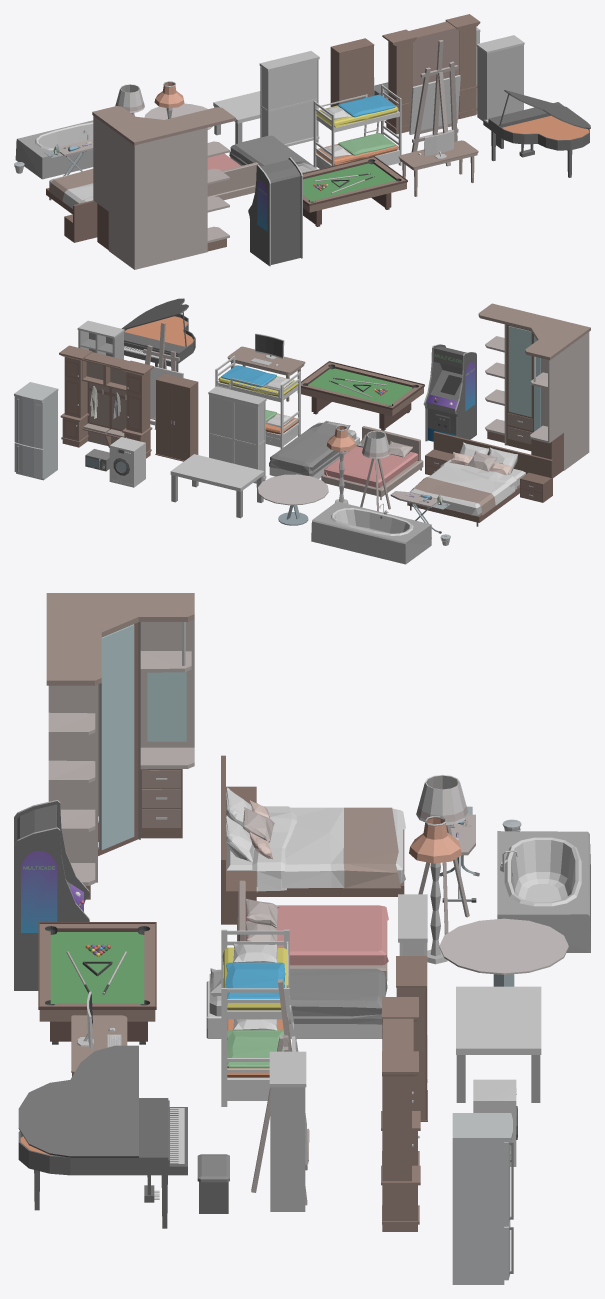
The model's file is props2.glb.
3 views of the same model, one above another, from view 1: azimuth 30°, elevation 25°; view 2: azimuth 150°, elevation 25°; view 3: azimuth 270°, elevation 25° (orthographic). The views are drawn at different scales.
Parts seen in each view (by area): view 1: furniture_closet_storage, furniture_closet_organizer, furniture_game_arcade, furniture_bedroom_armoire, furniture_bedroom_bunk, instrument_piano, furniture_game_pool, furniture_storage_bookshelf, prop_easel, bathroom_tub, furniture_kitchen_pantry, furniture_bedroom_king (+8 smaller); view 2: furniture_closet_storage, furniture_bedroom_king, furniture_closet_organizer, bathroom_tub, furniture_game_pool, furniture_game_arcade, furniture_bedroom_armoire, appliance_fridge, furniture_bedroom_queen, furniture_kitchen_pantry, furniture_bedroom_bunk, instrument_piano (+11 smaller); view 3: furniture_closet_storage, instrument_piano, furniture_bedroom_king, furniture_game_pool, appliance_fridge, furniture_bedroom_bunk, bathroom_tub, furniture_game_arcade, furniture_closet_organizer, furniture_bedroom_queen, furniture_bedroom_twin, furniture_dining_table (+10 smaller).
Part boxes in pixels (<box>): furniture_closet_storage: <box>92,106,235,269</box>; furniture_closet_organizer: <box>382,14,480,134</box>; furniture_game_arcade: <box>248,157,302,266</box>; furniture_bedroom_armoire: <box>259,51,319,146</box>; furniture_bedroom_bunk: <box>313,84,401,168</box>; instrument_piano: <box>483,90,590,177</box>; furniture_game_pool: <box>302,156,407,226</box>; furniture_storage_bookshelf: <box>476,35,524,121</box>; prop_easel: <box>409,40,460,166</box>; bathroom_tub: <box>15,120,93,179</box>; furniture_kitchen_pantry: <box>330,38,374,106</box>; furniture_bedroom_king: <box>46,168,97,242</box>; furniture_closet_storage: <box>478,303,590,477</box>; furniture_bedroom_king: <box>407,431,552,526</box>; furniture_closet_organizer: <box>59,345,153,458</box>; bathroom_tub: <box>311,501,431,564</box>; furniture_game_pool: <box>297,361,424,430</box>; furniture_game_arcade: <box>423,344,476,441</box>; furniture_bedroom_armoire: <box>208,386,266,487</box>; appliance_fridge: <box>14,382,58,480</box>; furniture_bedroom_queen: <box>321,426,423,499</box>; furniture_kitchen_pantry: <box>155,373,198,461</box>; furniture_bedroom_bunk: <box>215,355,300,449</box>; instrument_piano: <box>122,298,195,371</box>; furniture_closet_storage: <box>46,593,194,899</box>; instrument_piano: <box>18,1045,229,1228</box>; furniture_bedroom_king: <box>221,755,405,924</box>; furniture_game_pool: <box>38,922,156,1044</box>; appliance_fridge: <box>452,1113,513,1284</box>; furniture_bedroom_bunk: <box>221,929,298,1106</box>; bathroom_tub: <box>497,831,590,952</box>; furniture_game_arcade: <box>14,800,89,990</box>; furniture_closet_organizer: <box>381,997,420,1231</box>; furniture_bedroom_queen: <box>237,880,388,980</box>; furniture_bedroom_twin: <box>206,968,387,1038</box>; furniture_dining_table: <box>456,986,541,1102</box>.
Size of the model in its own units: 9.49 by 3.22 by 5.71.
